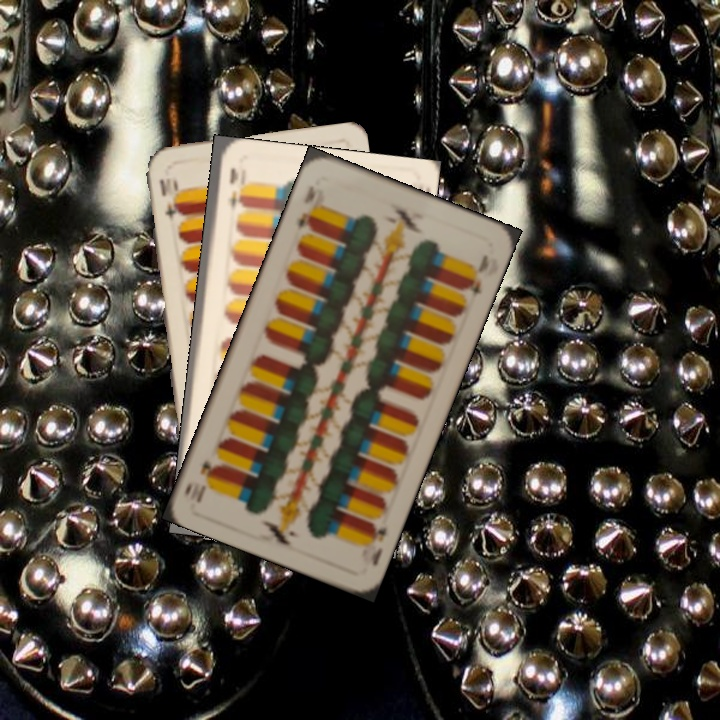E10: (293, 181, 318, 232), (155, 175, 182, 221), (366, 518, 390, 569), (225, 163, 241, 213)
